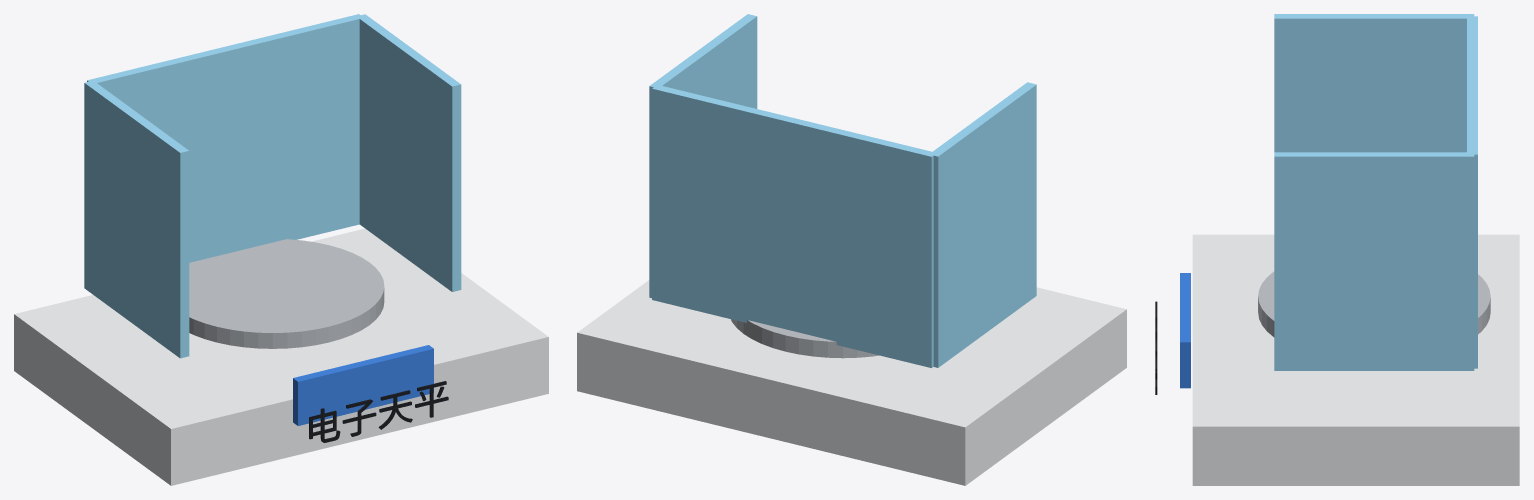
Rendered from asset_balance.glb.
3 views of the same model, side by side, from view 1: azimuth 30°, elevation 25°; view 2: azimuth 150°, elevation 25°; view 3: azimuth 270°, elevation 25° (orthographic). The views are drawn at different scales.
Visible parts, largest first — view 1: base, glass_case_back, glass_case_left, glass_case_right, weighing_pan, display, asset_label; view 2: glass_case_back, base, glass_case_left, glass_case_right, weighing_pan; view 3: base, glass_case_right, glass_case_left, glass_case_back, weighing_pan, display.
Part boxes in pixels (left/top/right/bottom): base: left=14, top=228, right=548, bottom=485; glass_case_back: left=87, top=14, right=363, bottom=262; glass_case_left: left=84, top=81, right=189, bottom=358; glass_case_right: left=358, top=14, right=461, bottom=291; weighing_pan: left=189, top=239, right=384, bottom=348; display: left=293, top=345, right=433, bottom=425; asset_label: left=309, top=381, right=448, bottom=442; glass_case_back: left=652, top=86, right=936, bottom=367; base: left=577, top=280, right=1126, bottom=485; glass_case_left: left=929, top=82, right=1036, bottom=367; glass_case_right: left=649, top=14, right=757, bottom=297; weighing_pan: left=731, top=319, right=879, bottom=358; base: left=1192, top=234, right=1519, bottom=485; glass_case_right: left=1274, top=152, right=1474, bottom=370; glass_case_left: left=1274, top=14, right=1474, bottom=152; glass_case_back: left=1467, top=16, right=1477, bottom=368; weighing_pan: left=1258, top=271, right=1490, bottom=337; display: left=1180, top=273, right=1190, bottom=388.
Size of the model in its own units: 1.25 by 0.925 by 1.
